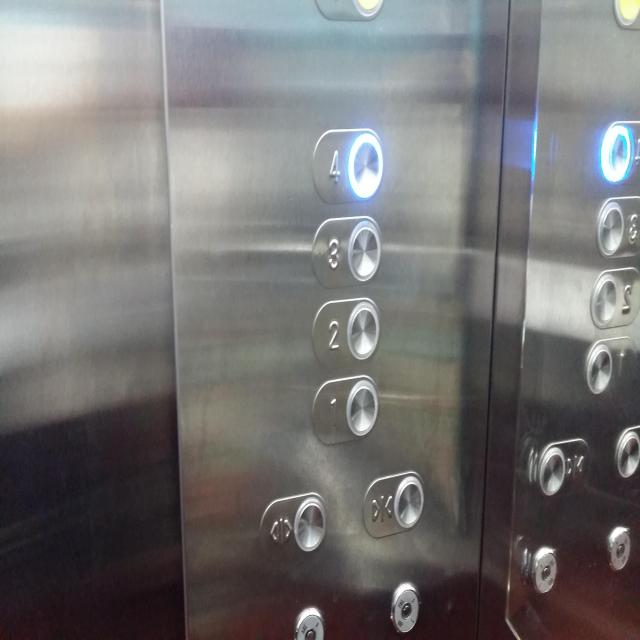1: (311, 374, 381, 446), (578, 334, 640, 401)
2: (311, 295, 384, 367)
3: (309, 212, 384, 292)
4: (309, 123, 386, 208)
close: (362, 470, 426, 540), (530, 434, 592, 500)
indicator: (388, 580, 424, 640), (526, 540, 561, 600), (605, 523, 634, 578), (294, 604, 327, 640)
open: (258, 490, 329, 562)
unknown: (586, 266, 640, 331)
